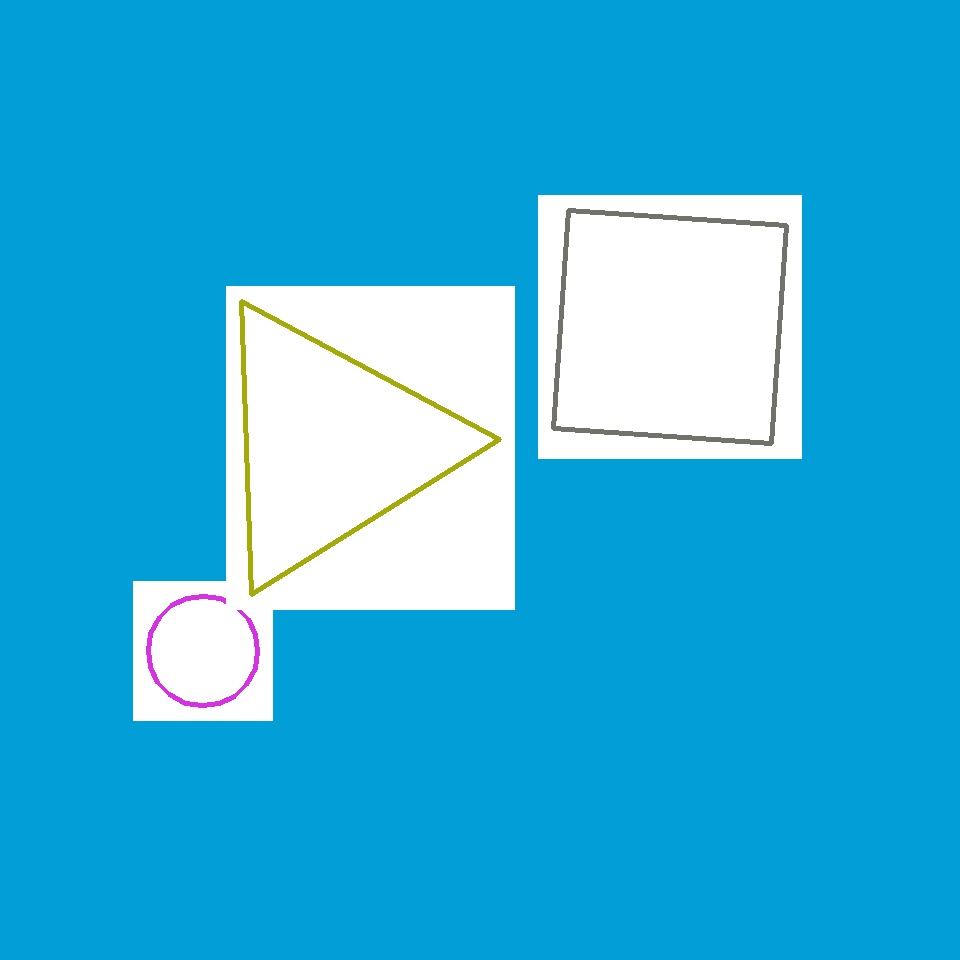circle: (202, 298, 460, 592), (424, 678, 608, 871), (545, 404, 689, 538)
square: (410, 274, 706, 568), (554, 211, 786, 444), (253, 756, 436, 940), (706, 548, 848, 690)
triangle: (148, 596, 258, 706)
